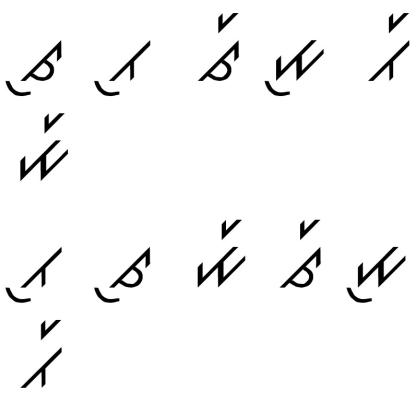bar: (21, 316, 66, 394), (368, 10, 412, 84)
baw: (85, 21, 155, 100), (5, 236, 69, 305)
car: (269, 213, 326, 296), (196, 7, 242, 83)
caw: (88, 237, 154, 309), (2, 39, 64, 102)
mar: (191, 209, 251, 288), (16, 109, 72, 183)
maw: (341, 233, 408, 306), (257, 34, 329, 99)
